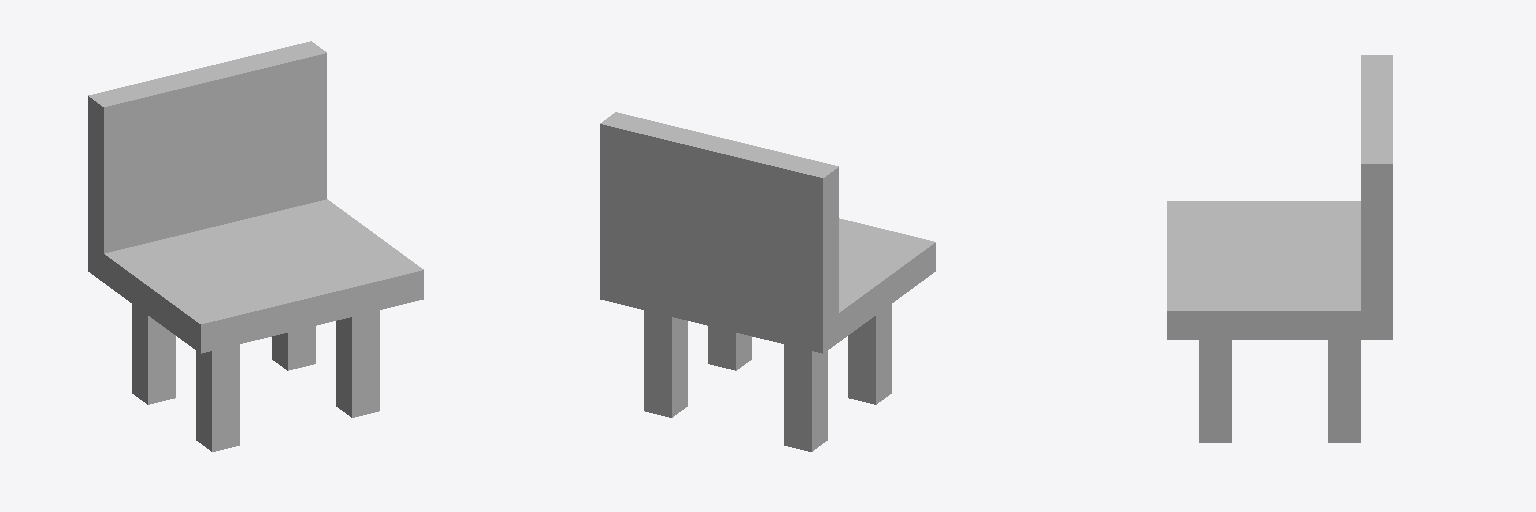
The model's file is Chair.obj.
The picture shows the model from 3 angles: view 1: azimuth 30°, elevation 25°; view 2: azimuth 150°, elevation 25°; view 3: azimuth 270°, elevation 25°; orthographic projection.
Parts seen in each view (by area): view 1: object 1; view 2: object 1; view 3: object 1.
Boxes of the visible parts, x1=… form: object 1: x1=88, y1=41, x2=423, y2=451; object 1: x1=600, y1=112, x2=935, y2=451; object 1: x1=1167, y1=55, x2=1392, y2=442.
Bounding box in the file's own units: 0.8 × 1 × 0.7.